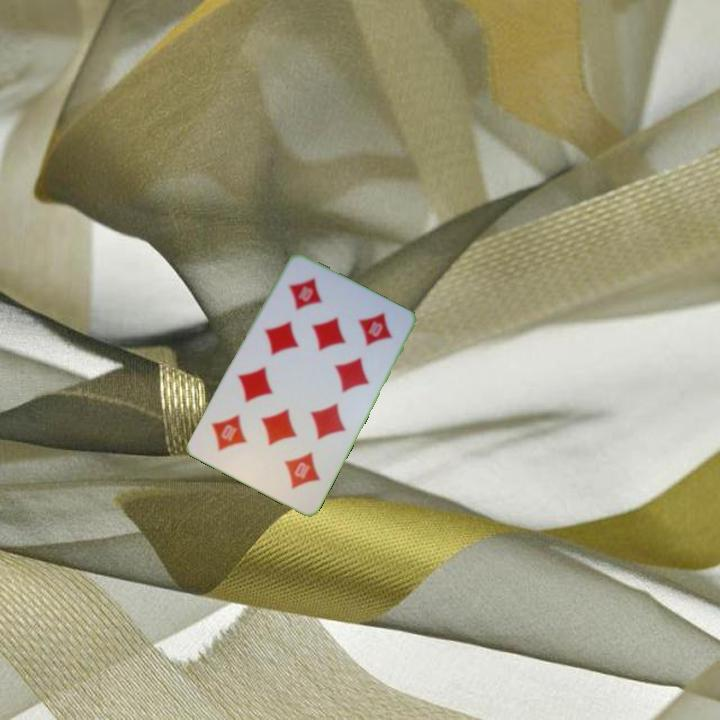d_10.png: (268, 261, 353, 342), (251, 426, 335, 506)
